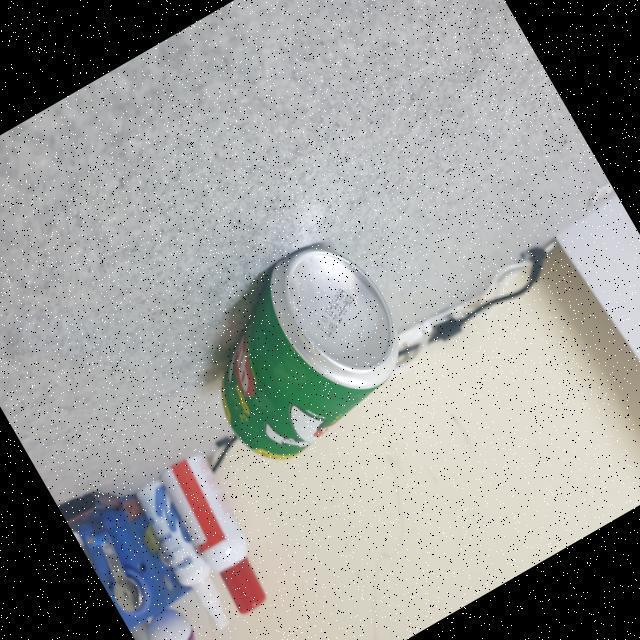can: (158, 212, 442, 490)
